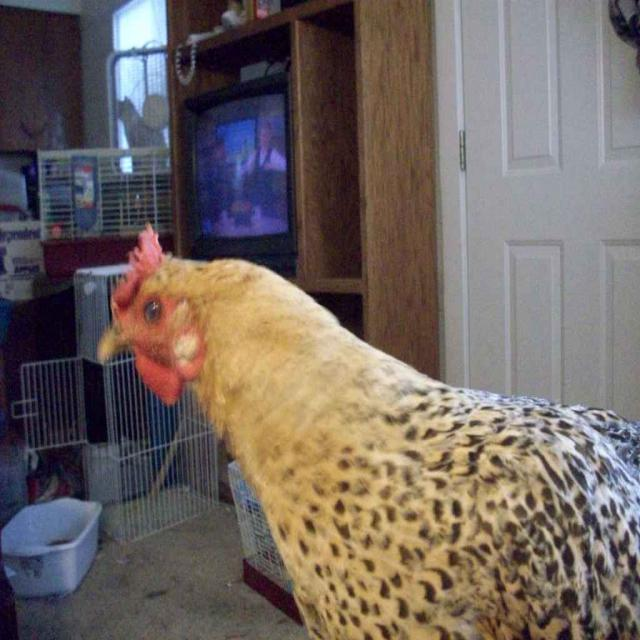Chicken: (95, 248, 640, 638)
